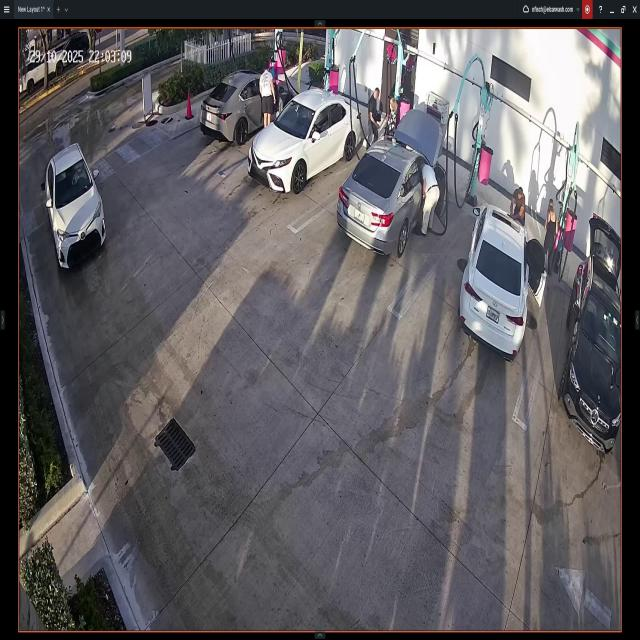Car: (336, 110, 449, 255), (560, 220, 623, 450), (455, 204, 546, 357), (252, 88, 361, 196), (44, 142, 108, 274), (203, 70, 294, 143)
